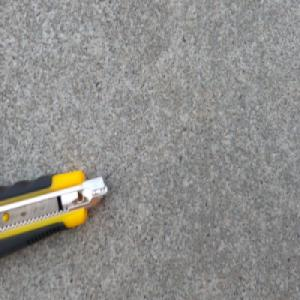Cutter: (0, 167, 108, 263)
